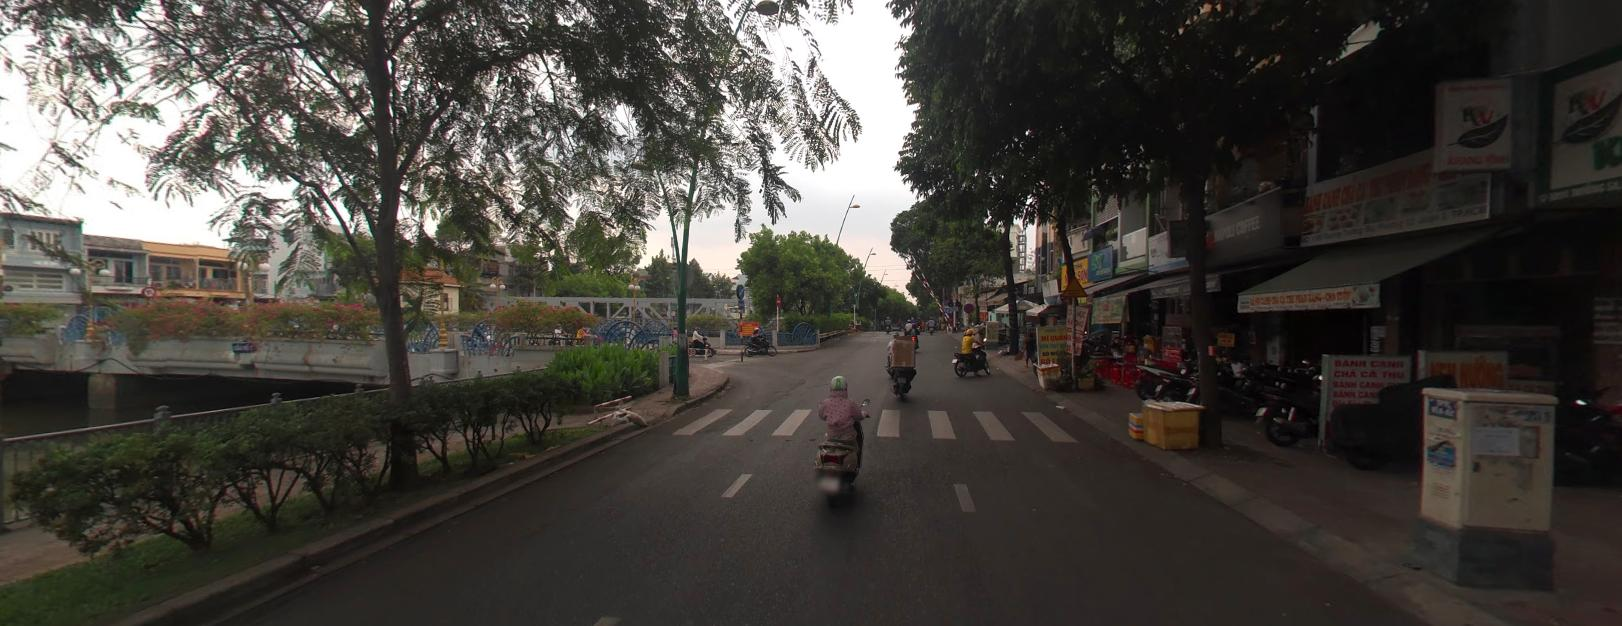Cam dung va do: (963, 301, 974, 312), (944, 296, 951, 302)
Cam nguoc chieu: (775, 294, 781, 304)
Cam re: (141, 285, 156, 296)
Hieu lenh: (735, 282, 744, 297)
Nguy hiem: (1060, 274, 1088, 294)
